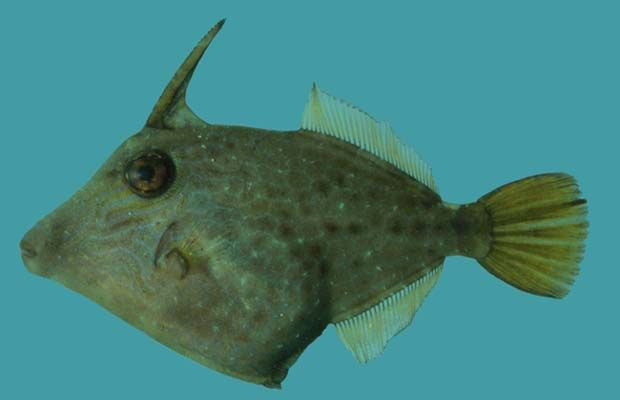fish: (17, 18, 588, 390)
